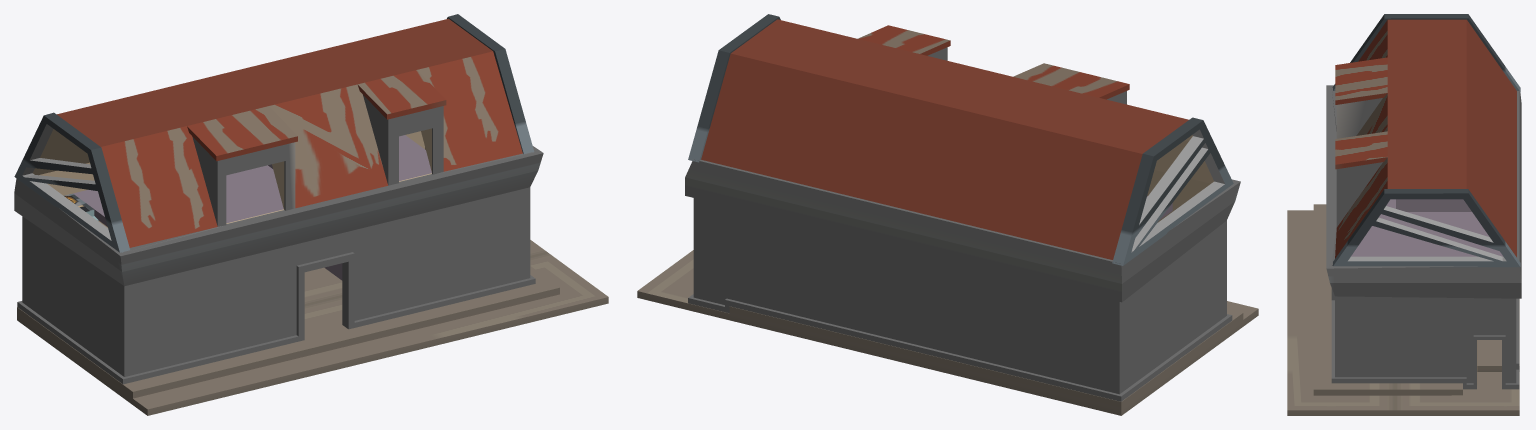
Rendered from Temple_collider.fbx.
The picture shows the model from 3 angles, left to right: view 1: azimuth 30°, elevation 25°; view 2: azimuth 150°, elevation 25°; view 3: azimuth 270°, elevation 25°; orthographic projection. The views are drawn at different scales.
Visible parts, largest first — view 1: TempleCollider; view 2: TempleCollider; view 3: TempleCollider.
Boxes of the visible parts, x1,y1,x2,y2 form: TempleCollider: (14,14,608,415); TempleCollider: (637,14,1258,415); TempleCollider: (1287,14,1521,415).
Size of the model in its own units: 22.24 by 10.34 by 10.89.
